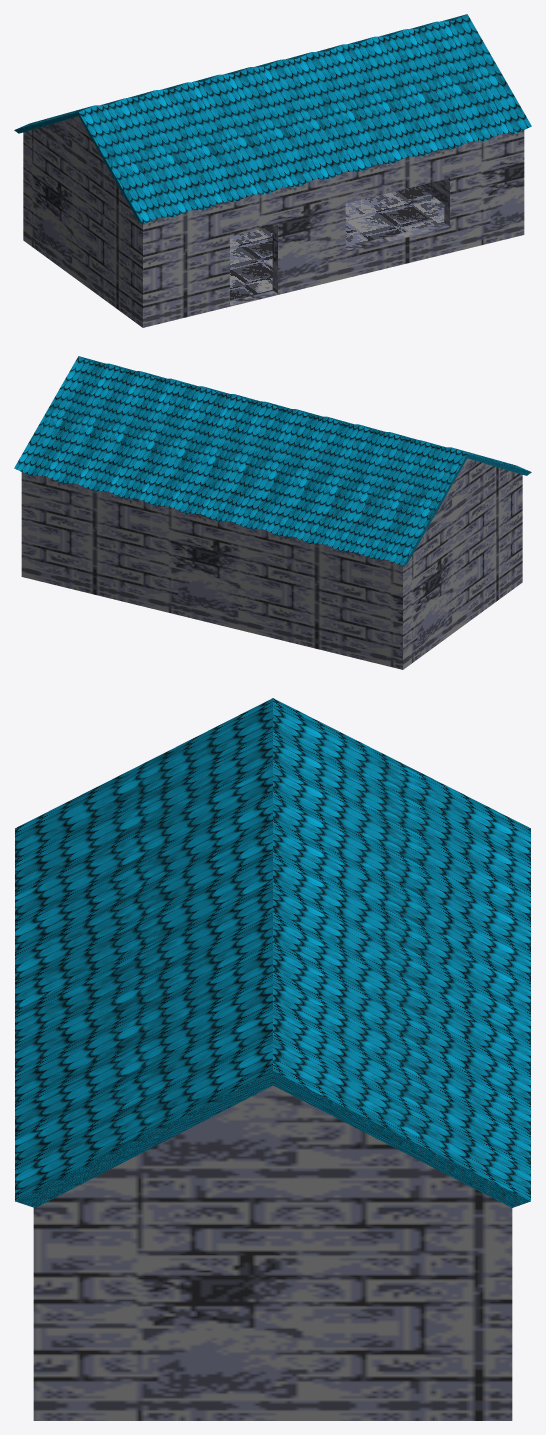
File: CasaConInterior.glb
The picture shows the model from 3 angles, top to bottom: view 1: azimuth 30°, elevation 25°; view 2: azimuth 150°, elevation 25°; view 3: azimuth 270°, elevation 25°; orthographic projection. The views are drawn at different scales.
Parts seen in each view (by area): view 1: Techo, Casa_col.001, Casa_col.002, Piso_col, Casa_col.010, Casa_col.005; view 2: Techo, Casa_col.003, Casa_col.002; view 3: Techo, Casa_col.004.
Part boxes in pixels (<box>): Techo: <box>14,14,531,224</box>; Casa_col.001: <box>143,130,524,327</box>; Casa_col.002: <box>23,116,142,327</box>; Piso_col: <box>230,186,444,299</box>; Casa_col.010: <box>345,223,449,251</box>; Casa_col.005: <box>272,225,277,293</box>; Techo: <box>14,356,531,566</box>; Casa_col.003: <box>21,472,402,669</box>; Casa_col.002: <box>403,458,522,669</box>; Techo: <box>15,698,530,1207</box>; Casa_col.004: <box>33,1085,512,1420</box>.
Bounding box in the file's own units: 22.51 × 9.75 × 12.93.
3 materials, 3 textured.
